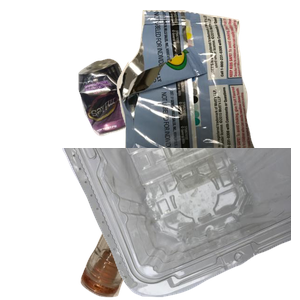glass: (78, 128, 298, 300)
metal: (75, 56, 198, 185)
plastic: (60, 148, 300, 300)
trash: (114, 10, 300, 180)
